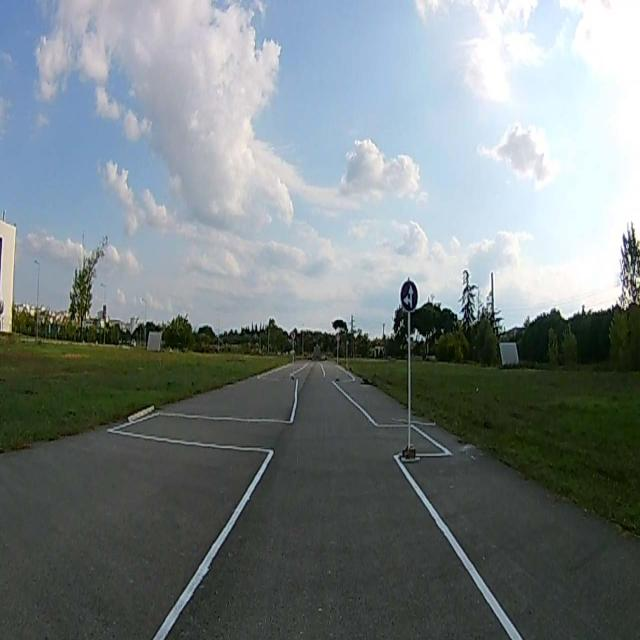ilerisol: (400, 280, 419, 312)
